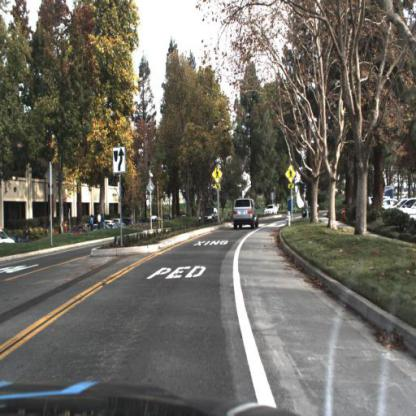car: (233, 197, 260, 235), (198, 205, 222, 228), (1, 229, 16, 247)
pedestrian: (304, 195, 311, 223), (87, 210, 95, 234), (97, 211, 103, 232), (97, 212, 103, 232), (24, 224, 32, 237), (98, 213, 103, 230)
